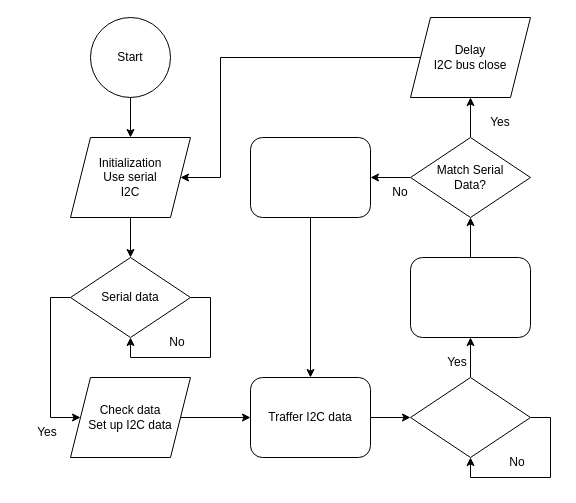
Image size: 576x503. Some labels were removed from this diagram. Each missing label, with the box of its shape:
Interrupt: (410, 376, 530, 458)
Read data Calculate speed: (410, 256, 530, 338)
Recalibrate I2C data: (250, 136, 370, 218)
